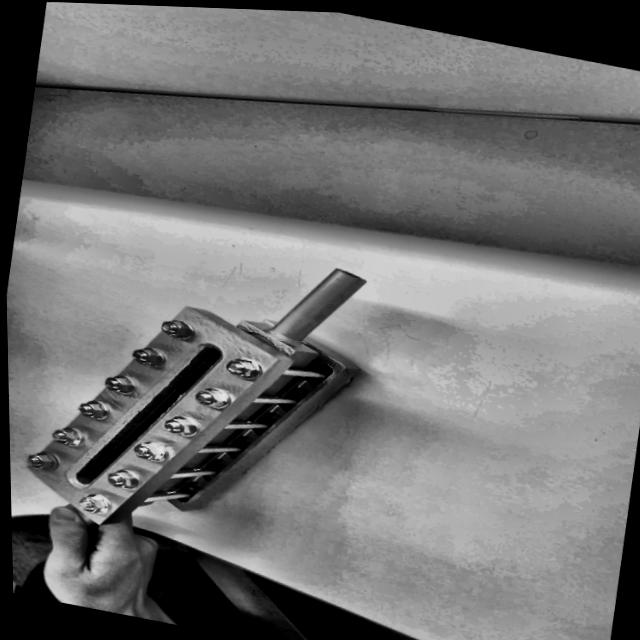ShuiWeiQi_12: (3, 192, 402, 564)
